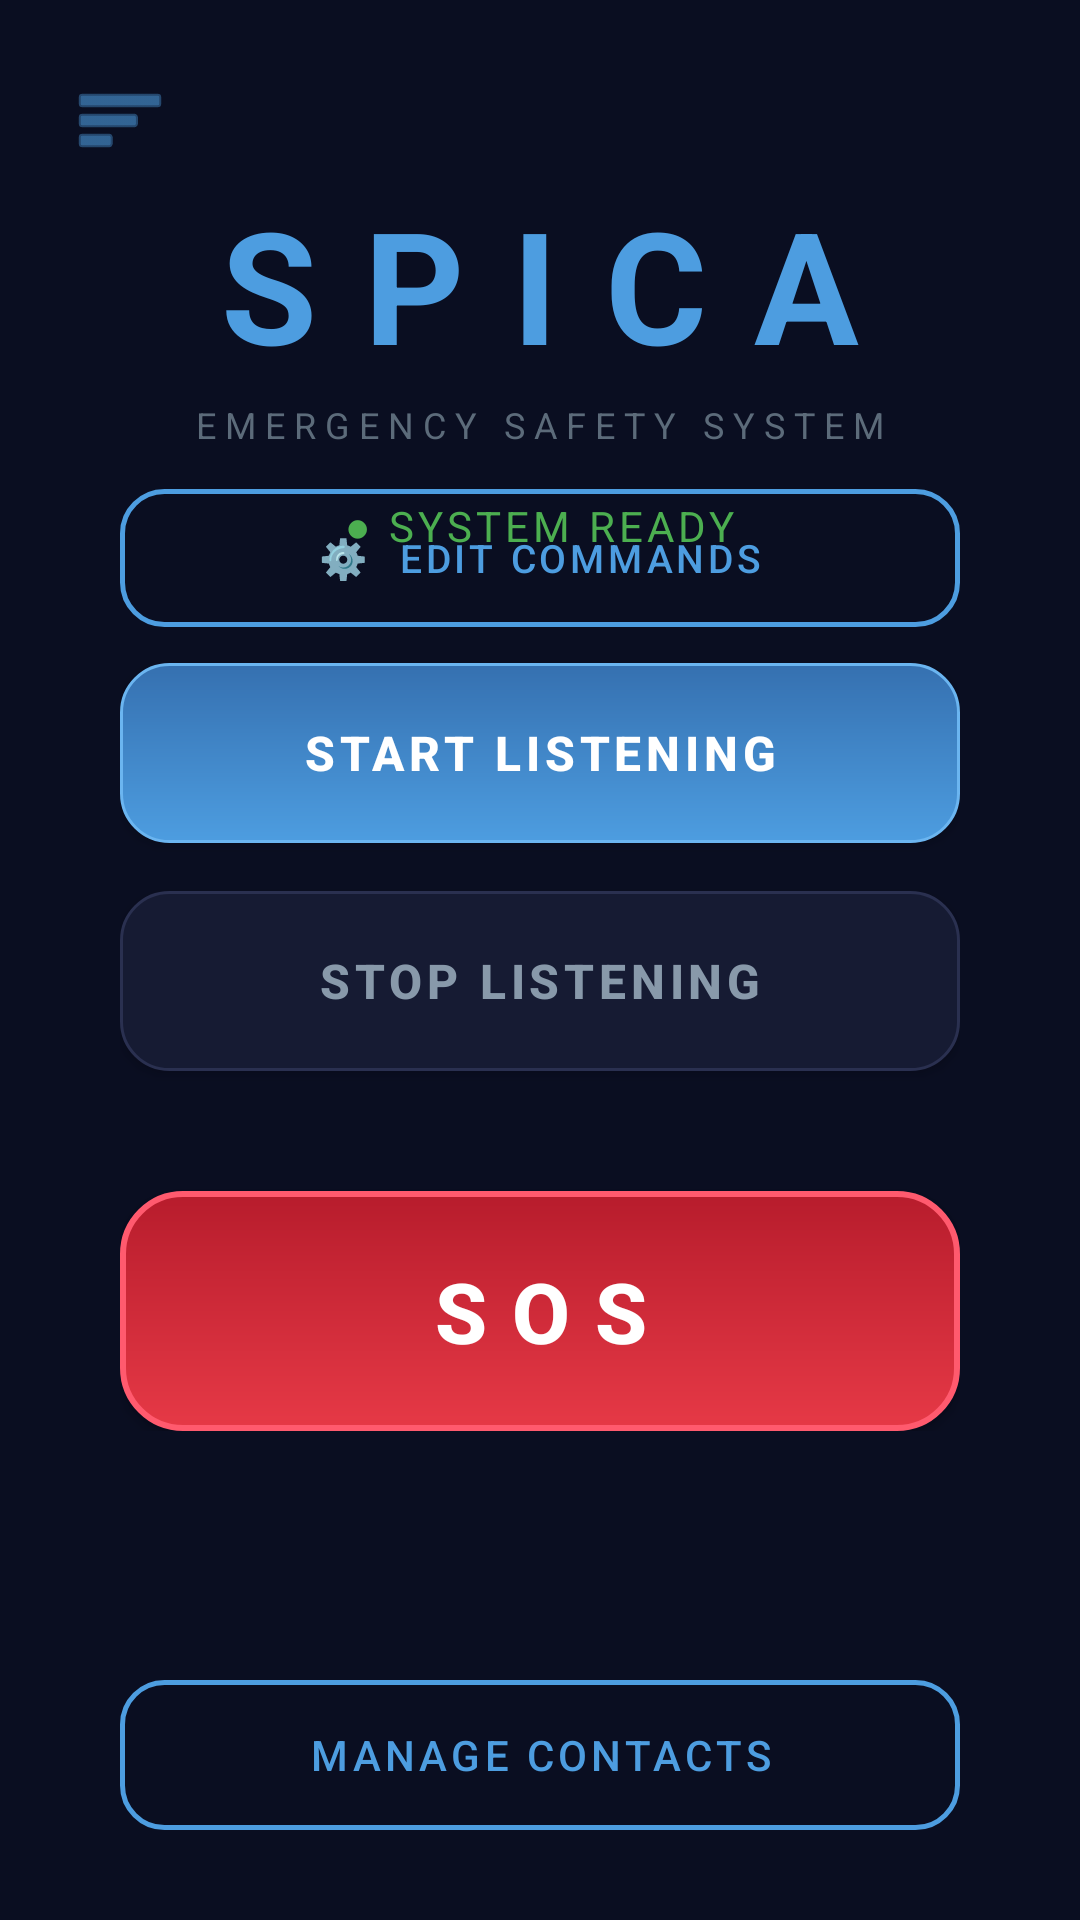

Icons on this 1080×1920 Android screen, each with the point to tap as [x,y]:
sort by size: [120,120]
